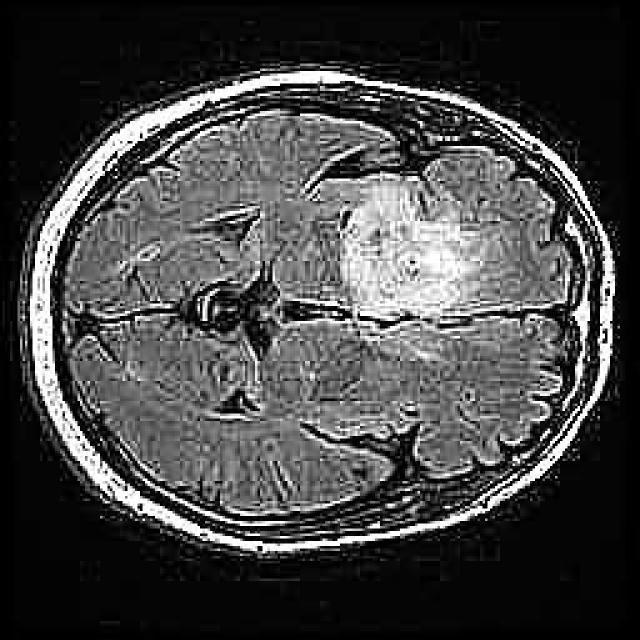tumor: (342, 174, 488, 317)
